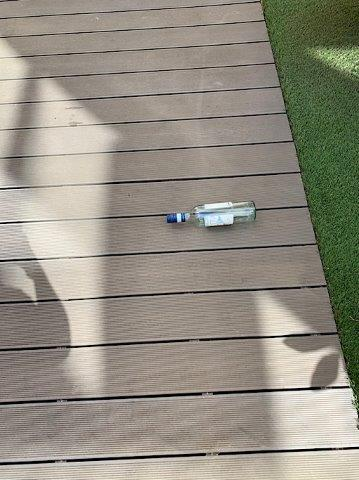botolkaca: (167, 200, 258, 227)
